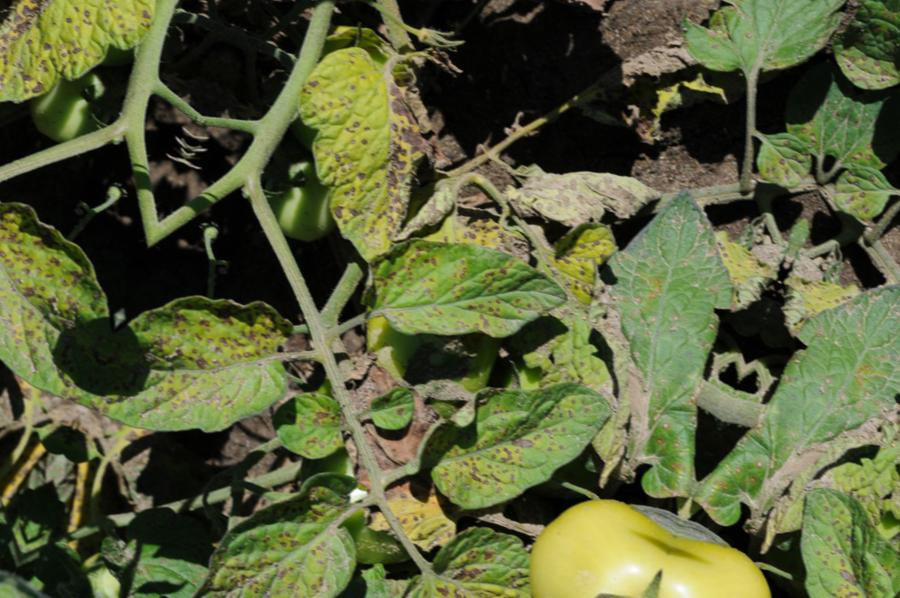Tomato Septoria leaf spot: (245, 26, 473, 275), (79, 252, 316, 489), (343, 203, 577, 401), (410, 328, 612, 543), (171, 470, 372, 598), (360, 497, 602, 598)
